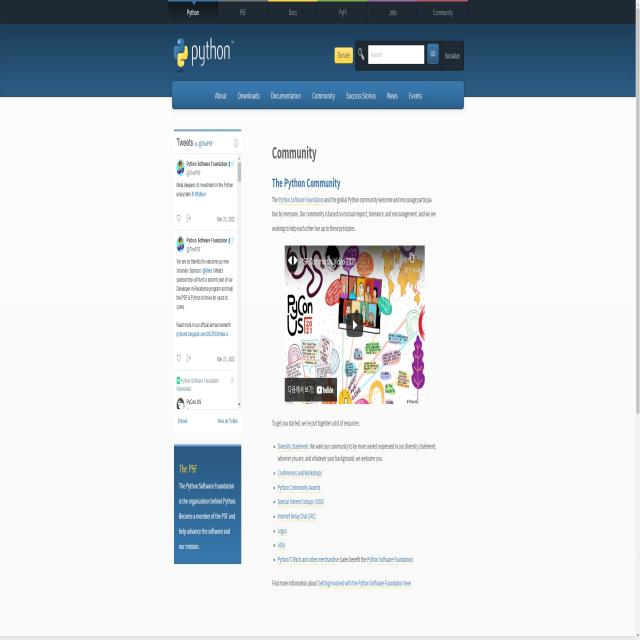search: (354, 42, 443, 69)
tab-bar: (210, 79, 428, 107)
